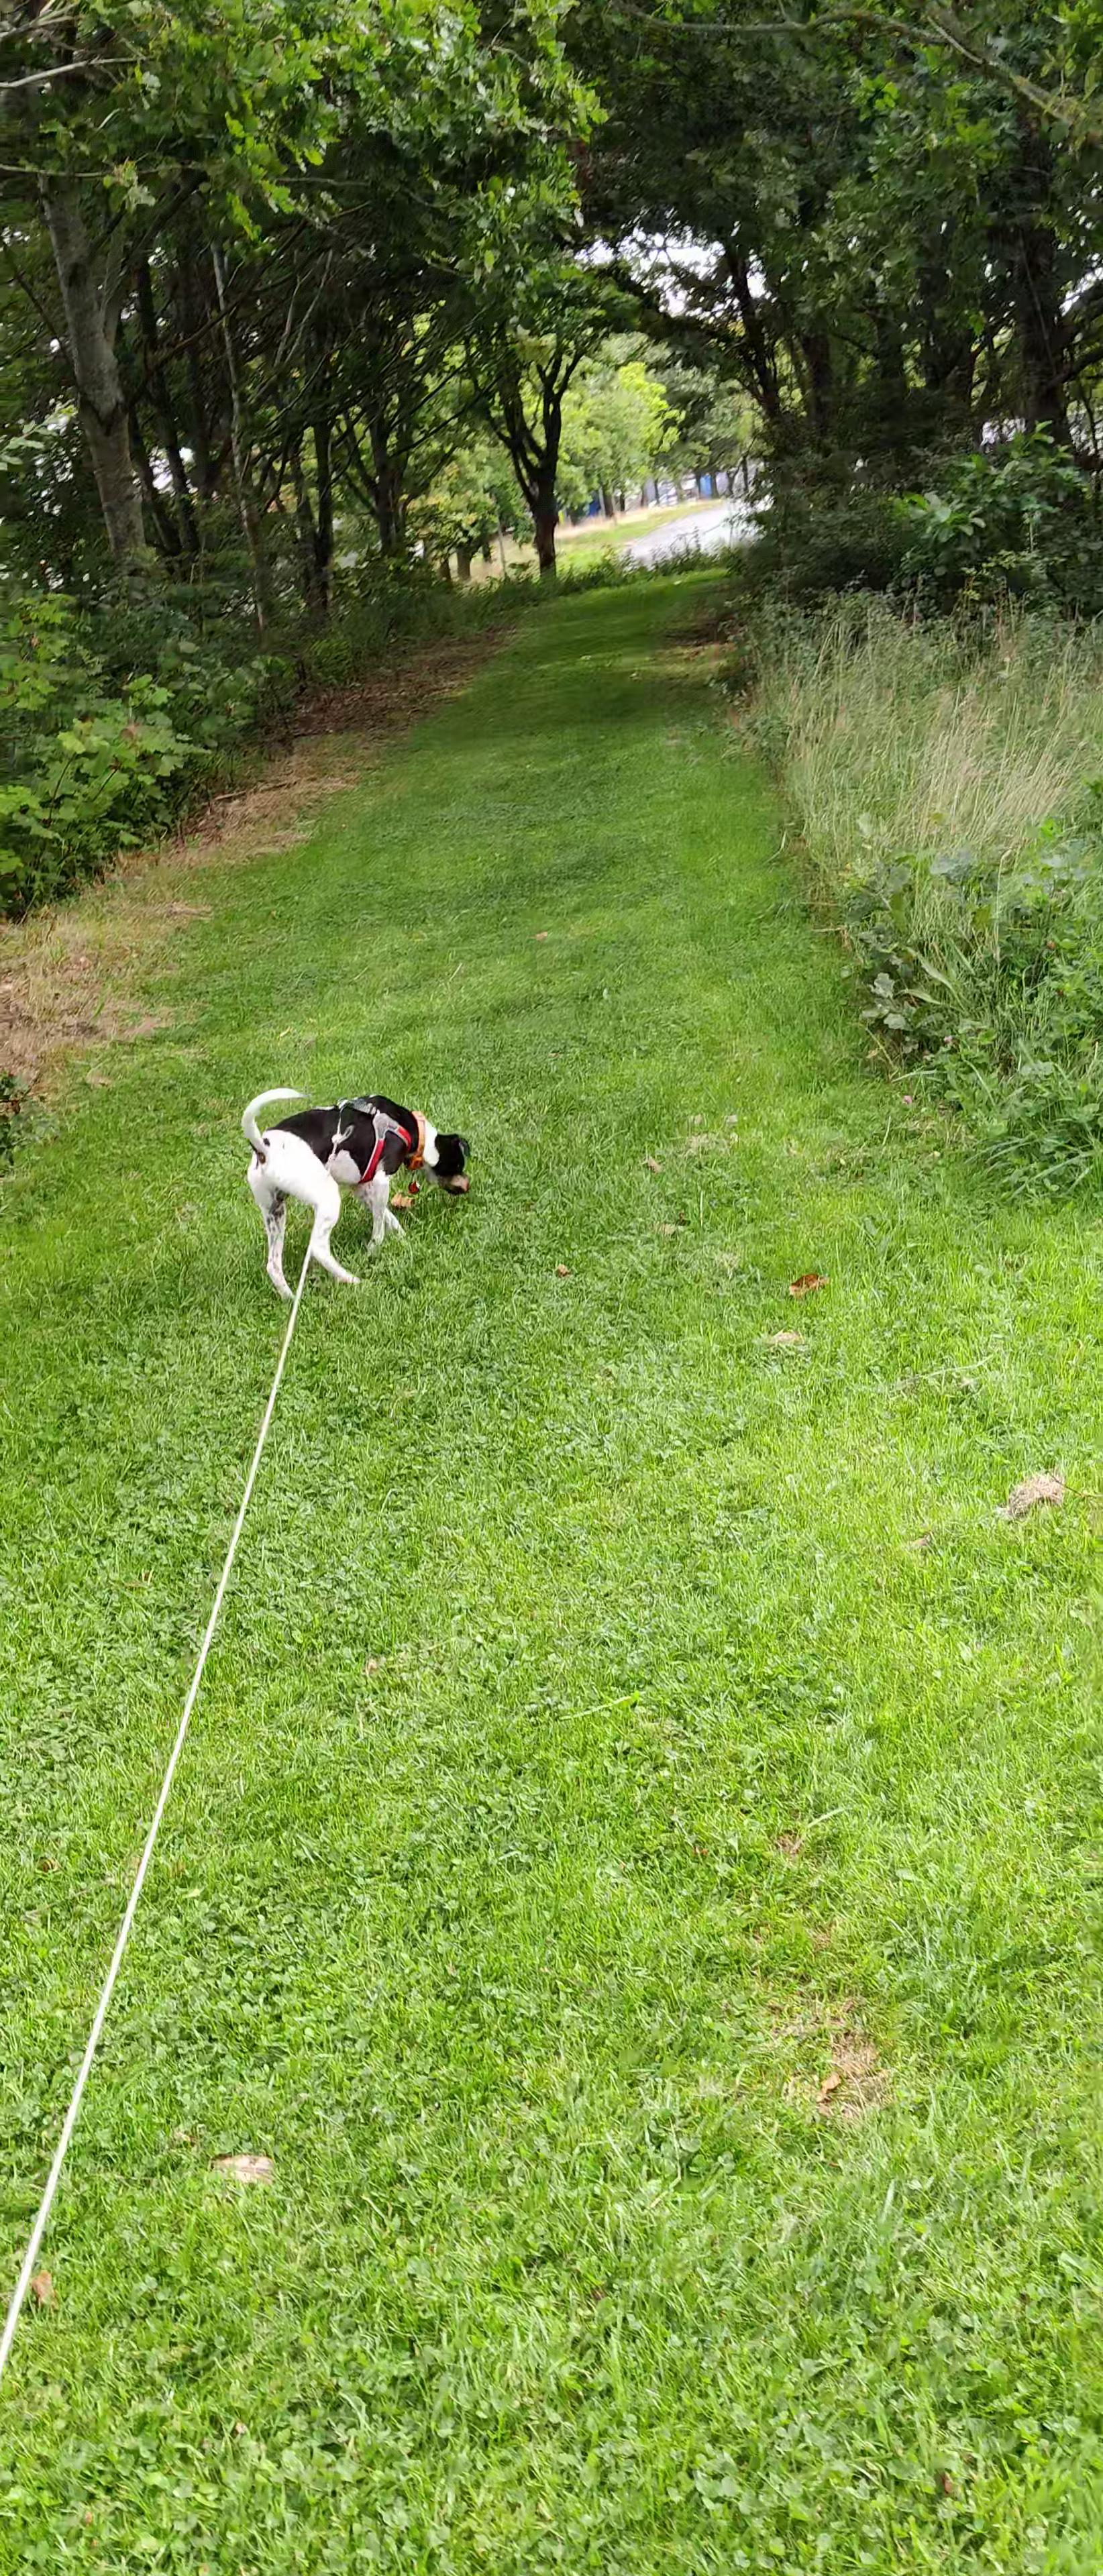Dog: (235, 1084, 478, 1304)
